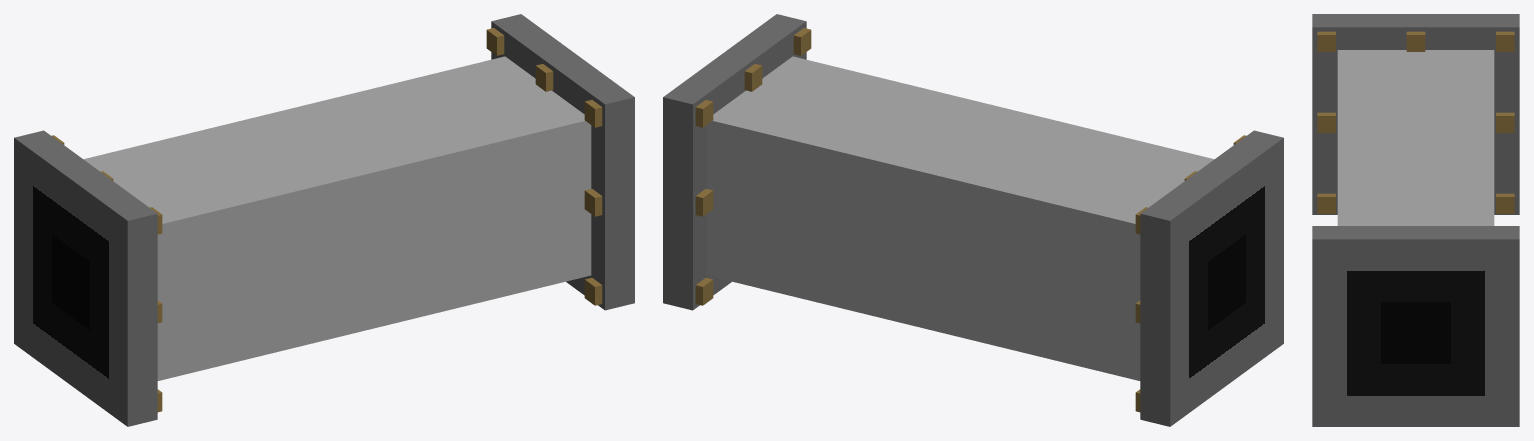
File: fluidpipe_inventory.obj
3 views of the same model, side by side, from view 1: azimuth 30°, elevation 25°; view 2: azimuth 150°, elevation 25°; view 3: azimuth 270°, elevation 25° (orthographic). The views are drawn at different scales.
Bounding box in the file's own units: 1.06 × 0.4125 × 0.4125.
